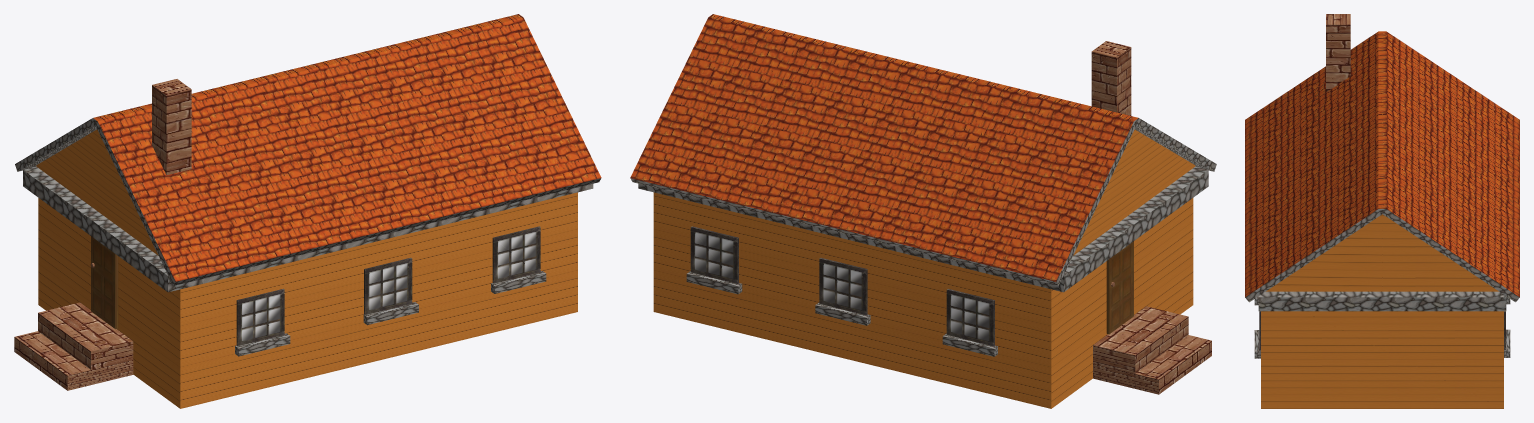
Rendered from house.obj.
3 renders of one model, left to right at view 1: azimuth 30°, elevation 25°; view 2: azimuth 150°, elevation 25°; view 3: azimuth 270°, elevation 25°, orthographic. The views are drawn at different scales.
Visible parts, largest first — view 1: Cube.016; view 2: Cube.016; view 3: Cube.016.
Part boxes in pixels (x1=…): Cube.016: x1=14, y1=14, x2=601, y2=408; Cube.016: x1=630, y1=14, x2=1216, y2=408; Cube.016: x1=1245, y1=14, x2=1519, y2=408.
Bounding box in the file's own units: 20.28 × 11.36 × 11.83.
